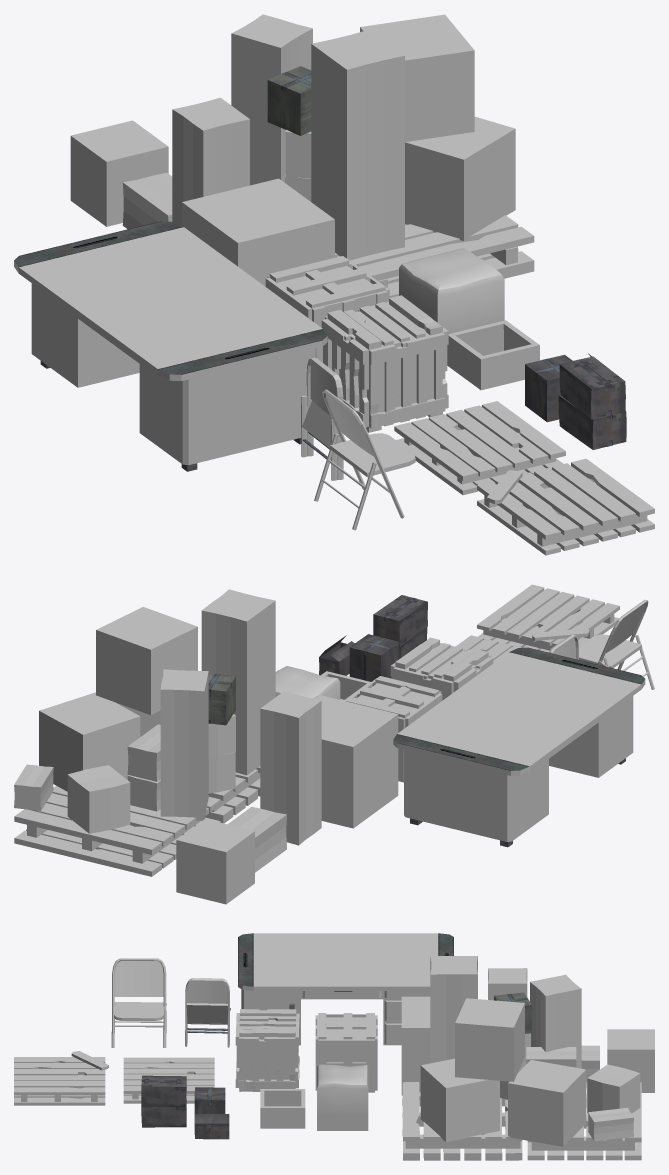
Rendered from Saving_wood_box_desk.fbx.
3 views of the same model, one above another, from view 1: azimuth 30°, elevation 25°; view 2: azimuth 150°, elevation 25°; view 3: azimuth 270°, elevation 25° (orthographic). The views are drawn at different scales.
Visible parts, largest first — view 1: Cube.058, Cube.069, Cube.043, Cube.002, Cube.061, Cube.059, Cube.071, Cube.064, Cube.073, KB3D_DMZ_Box_C_Main.013, Cube.060, Cube.070 (+4 smaller); view 2: Cube.058, Cube.069, Cube.061, Cube.071, Cube.002, Cube.064, Cube.043, Cube.060, Cube.070, KB3D_DMZ_Box_C_Main.013, Cube.076, KB3D_DMZ_Box_C_Main.019 (+5 smaller); view 3: Cube.058, Cube.069, Cube.043, Cube.002, Cube.060, Cube.070, Cube.073, Cube.059, Cube.061, Cube.001, KB3D_DMZ_Box_C_Main.013, Cube.064 (+5 smaller).
Part boxes in pixels (left/top/right/bottom): Cube.058: left=231, top=14, right=534, bottom=297; Cube.069: left=14, top=221, right=327, bottom=471; Cube.043: left=321, top=295, right=448, bottom=432; Cube.002: left=477, top=458, right=654, bottom=555; Cube.061: left=182, top=178, right=334, bottom=286; Cube.059: left=394, top=401, right=565, bottom=495; Cube.071: left=172, top=97, right=249, bottom=225; Cube.064: left=70, top=120, right=168, bottom=226; Cube.073: left=399, top=248, right=504, bottom=333; KB3D_DMZ_Box_C_Main.013: left=558, top=356, right=626, bottom=449; Cube.060: left=265, top=256, right=389, bottom=362; Cube.070: left=314, top=389, right=415, bottom=530; Cube.058: left=14, top=589, right=275, bottom=876; Cube.069: left=393, top=647, right=645, bottom=847; Cube.061: left=315, top=695, right=398, bottom=828; Cube.071: left=260, top=691, right=321, bottom=845; Cube.002: left=477, top=584, right=619, bottom=652; Cube.064: left=176, top=819, right=254, bottom=904; Cube.043: left=390, top=637, right=493, bottom=700; Cube.060: left=345, top=676, right=442, bottom=782; Cube.070: left=579, top=599, right=654, bottom=689; KB3D_DMZ_Box_C_Main.013: left=373, top=595, right=427, bottom=658; Cube.076: left=228, top=806, right=286, bottom=872; KB3D_DMZ_Box_C_Main.019: left=349, top=634, right=399, bottom=681; Cube.058: left=402, top=956, right=641, bottom=1160; Cube.069: left=238, top=933, right=453, bottom=1045; Cube.043: left=235, top=1009, right=299, bottom=1091; Cube.002: left=14, top=1051, right=108, bottom=1105; Cube.060: left=315, top=1013, right=377, bottom=1092; Cube.070: left=111, top=958, right=166, bottom=1047; Cube.073: left=317, top=1064, right=368, bottom=1130; Cube.059: left=123, top=1057, right=214, bottom=1103; Cube.061: left=401, top=996, right=430, bottom=1095; Cube.001: left=185, top=978, right=230, bottom=1047; KB3D_DMZ_Box_C_Main.013: left=141, top=1075, right=186, bottom=1127; Cube.064: left=607, top=1029, right=654, bottom=1092.
Size of the model in its own units: 14.09 by 5.97 by 22.79.
